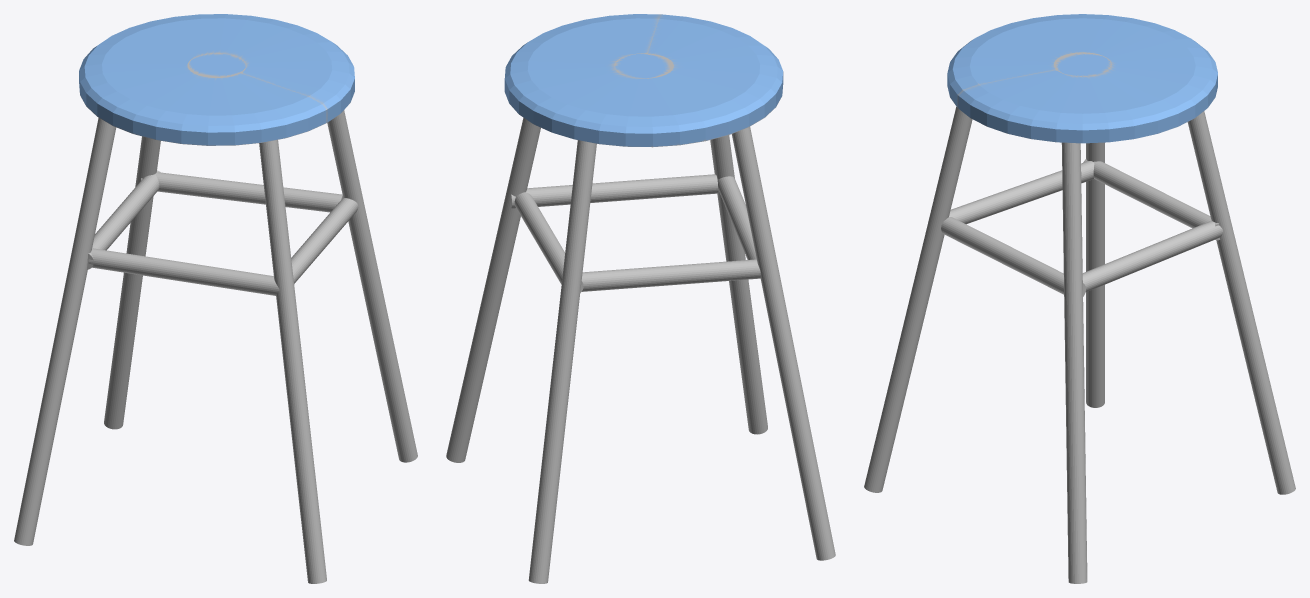
The model's file is Stool.obj.
3 renders of one model, left to right at view 1: azimuth 30°, elevation 25°; view 2: azimuth 150°, elevation 25°; view 3: azimuth 270°, elevation 25°, orthographic. The views are drawn at different scales.
Parts seen in each view (by area): view 1: Cylinder.003; view 2: Cylinder.003; view 3: Cylinder.003.
Boxes of the visible parts, left/top/right/bottom form: Cylinder.003: left=14, top=14, right=417, bottom=583; Cylinder.003: left=446, top=14, right=835, bottom=583; Cylinder.003: left=864, top=14, right=1295, bottom=583.
Bounding box in the file's own units: 3.28 × 3.5 × 3.19.
